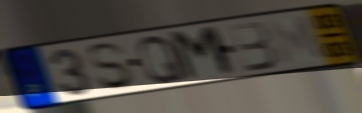3: (49, 46, 92, 97)
B: (226, 20, 279, 74)
M: (166, 24, 239, 84), (264, 13, 329, 67)
Q: (136, 33, 188, 85)
S: (86, 40, 137, 91)
